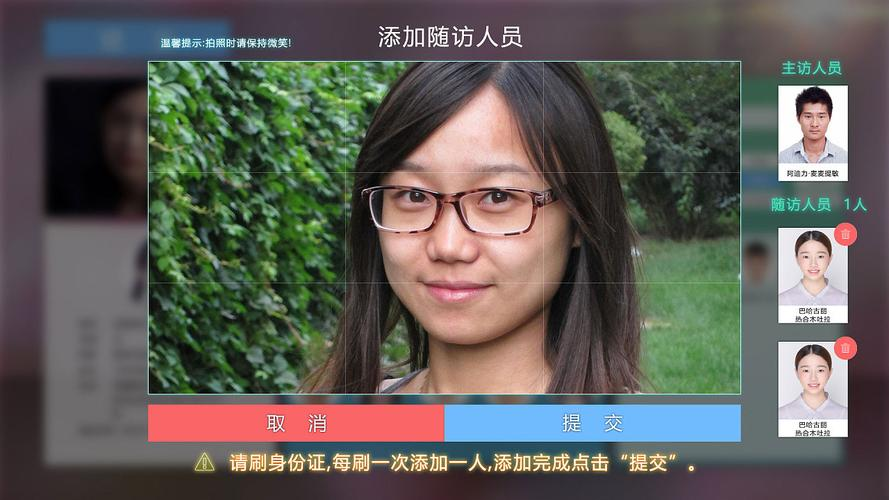no_mask: (367, 92, 573, 334)
